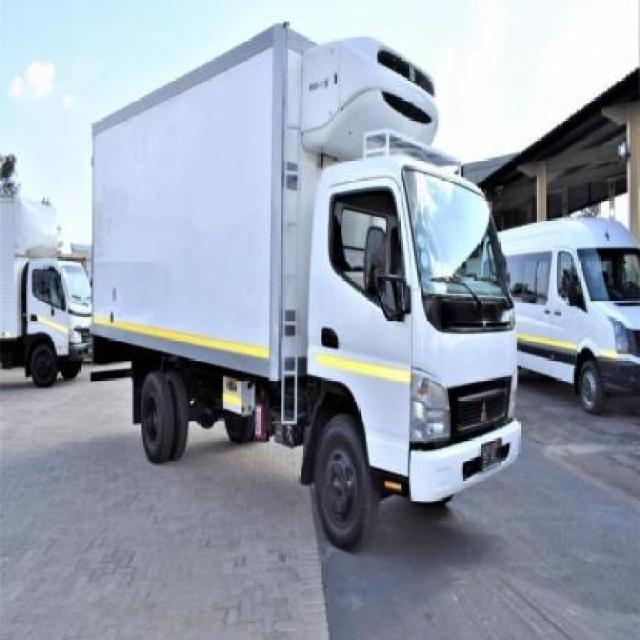truck: (87, 22, 522, 553), (0, 185, 95, 388)
